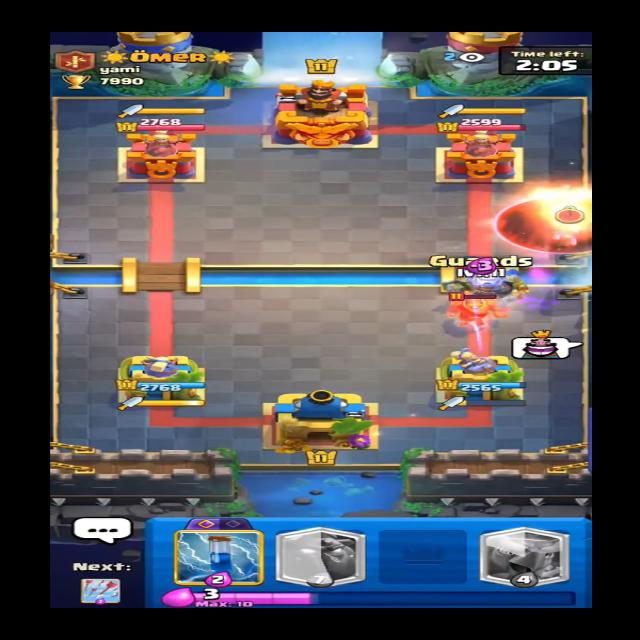Knight: (441, 287, 513, 328)
